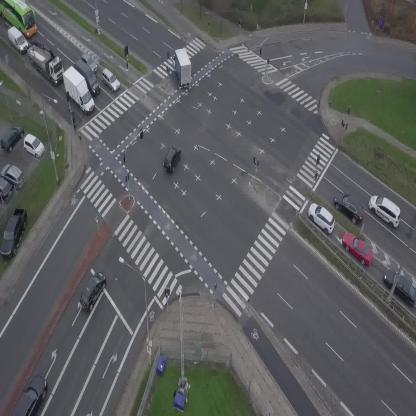bicycle: (71, 114, 79, 131)
car: (8, 372, 53, 416), (362, 191, 407, 231), (337, 227, 379, 267), (74, 267, 111, 312), (329, 187, 370, 227), (303, 199, 340, 236), (160, 142, 185, 173), (96, 66, 123, 94), (79, 50, 101, 74)
lorry: (17, 33, 72, 88), (57, 62, 97, 118), (70, 57, 105, 96), (169, 46, 197, 89), (3, 25, 33, 55)
